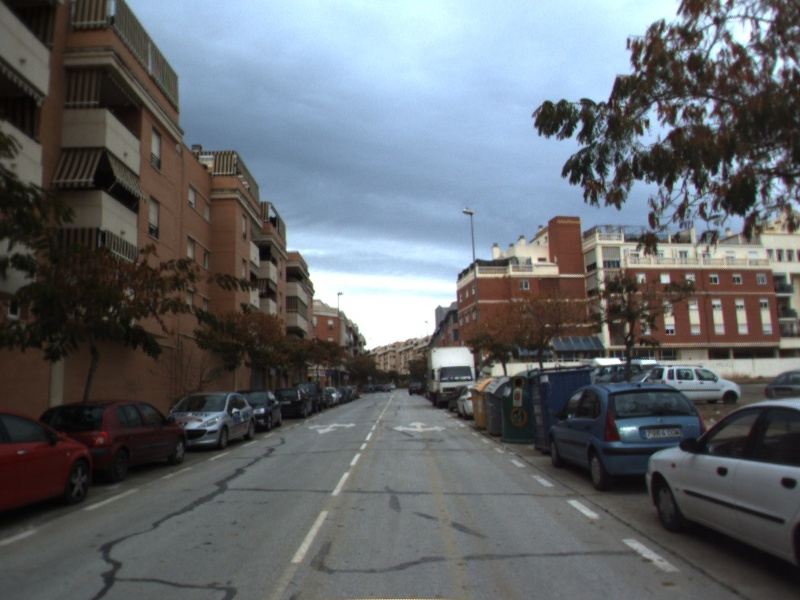STRAIGHT_LEFT_RIGHT: (391, 420, 448, 434)
